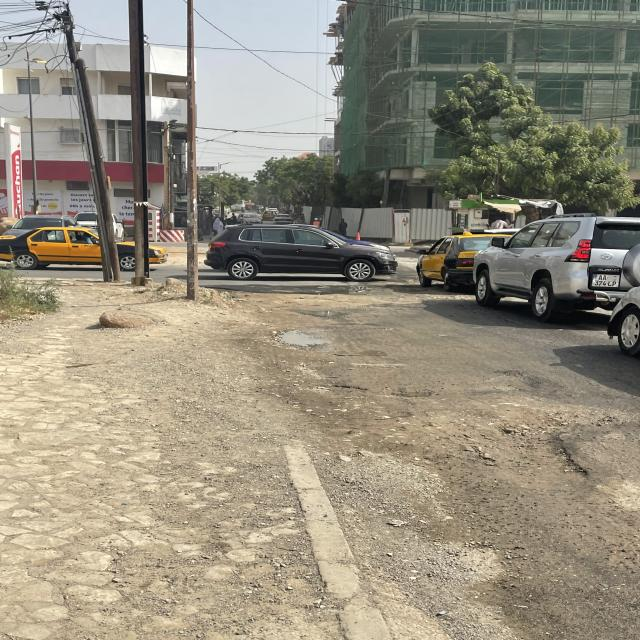particulier: (473, 214, 640, 324), (205, 225, 401, 283)
taxi: (2, 226, 170, 272), (415, 233, 527, 291)
